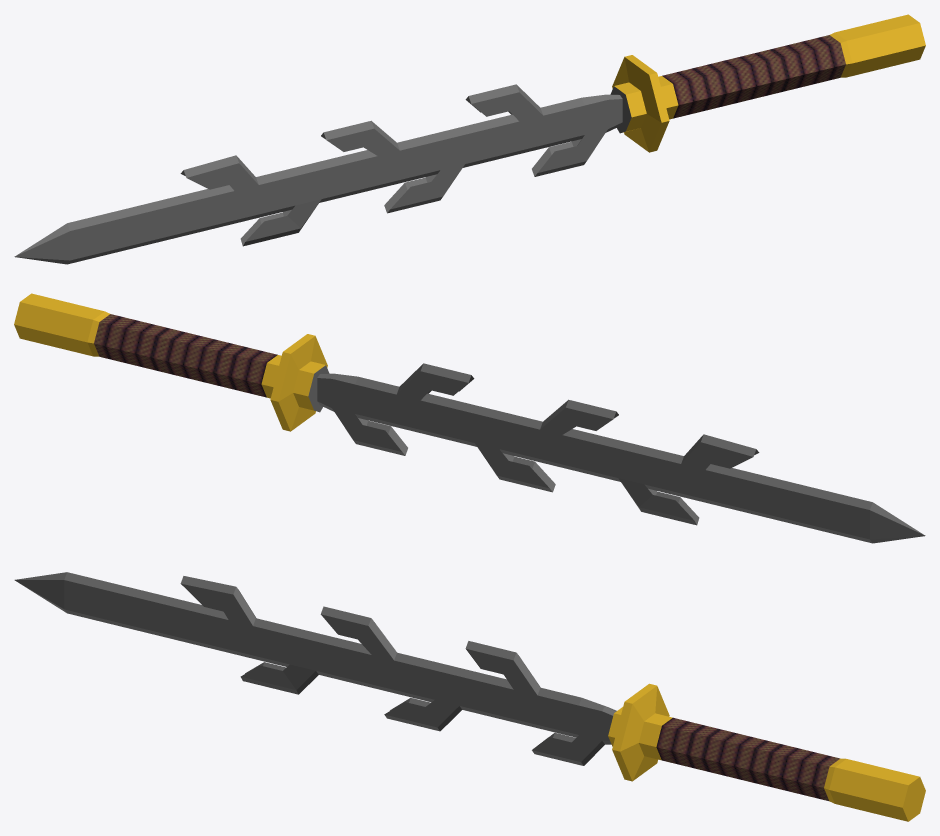
The model's file is ceremonial sword.fbx.
The picture shows the model from 3 angles, top to bottom: view 1: azimuth 30°, elevation 25°; view 2: azimuth 150°, elevation 25°; view 3: azimuth 330°, elevation 25°; orthographic projection.
Parts seen in each view (by area): view 1: Shichishito; view 2: Shichishito; view 3: Shichishito.
Part boxes in pixels (bbox=[...]): Shichishito: bbox=[14, 14, 925, 264]; Shichishito: bbox=[14, 293, 925, 543]; Shichishito: bbox=[14, 572, 925, 821].
Bounding box in the file's own units: 116 × 12.06 × 11.09.
